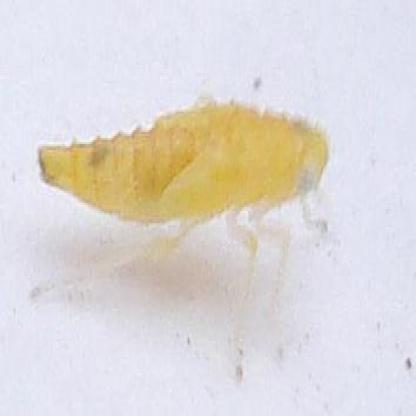green-leafhopper: (30, 98, 330, 345)
